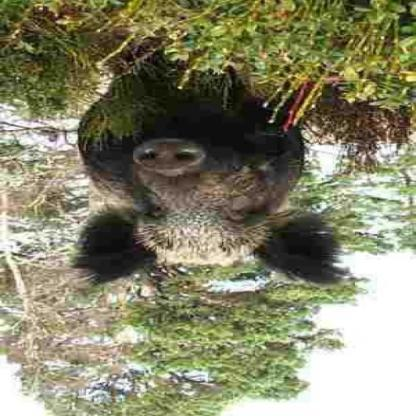boar: (76, 33, 330, 310)
